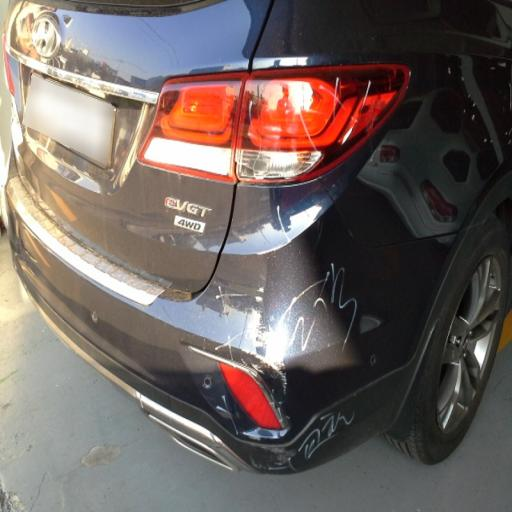dent: (88, 84, 174, 224)
scratch: (211, 254, 377, 474), (40, 26, 112, 96)
